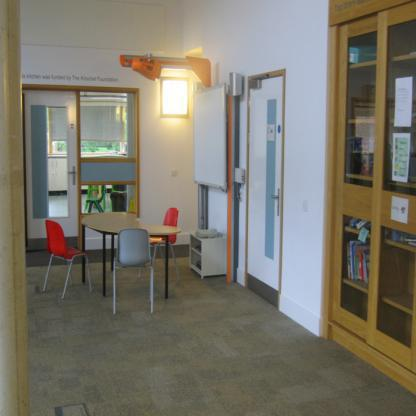door: (21, 91, 80, 252), (246, 76, 286, 310)
hinged: (248, 94, 251, 109), (247, 132, 250, 146)
lever: (270, 193, 280, 200), (65, 170, 76, 176)
